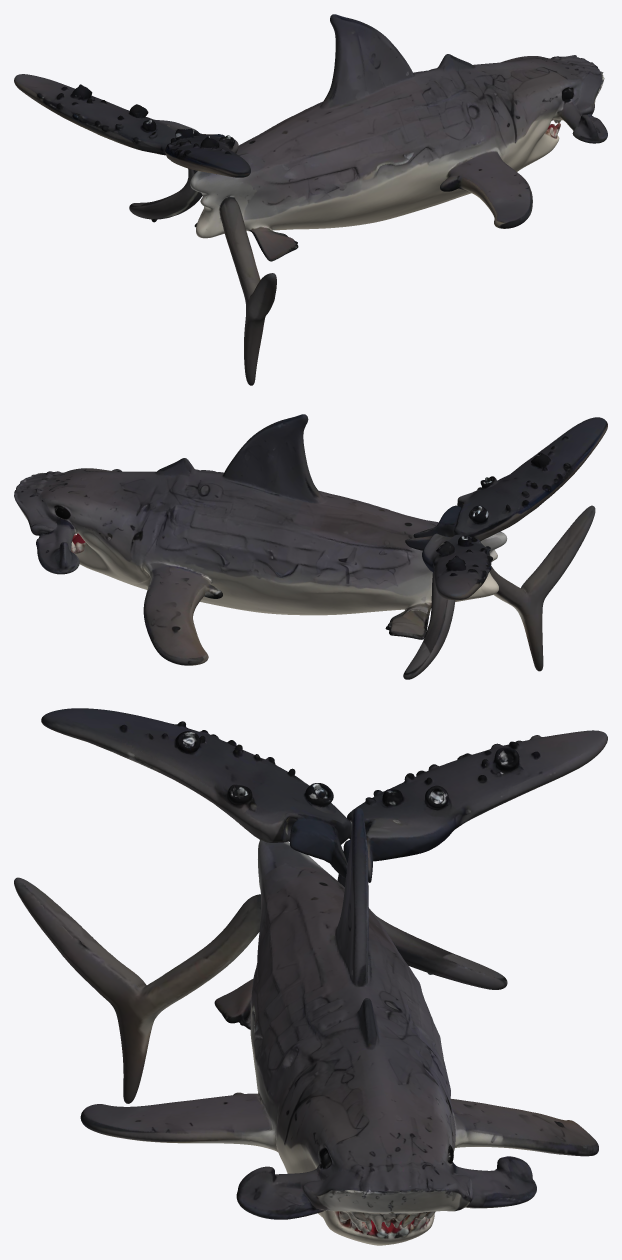
File: hammer_a.glb
3 views of the same model, one above another, from view 1: azimuth 30°, elevation 25°; view 2: azimuth 150°, elevation 25°; view 3: azimuth 270°, elevation 25° (orthographic). The views are drawn at different scales.
Parts seen in each view (by area): view 1: tripo_node_91c6eea2-9107-4697-b066-db56a7a76f0b; view 2: tripo_node_91c6eea2-9107-4697-b066-db56a7a76f0b; view 3: tripo_node_91c6eea2-9107-4697-b066-db56a7a76f0b.
Part boxes in pixels (x1,y1,x2,y2): tripo_node_91c6eea2-9107-4697-b066-db56a7a76f0b: [14, 14, 607, 385]; tripo_node_91c6eea2-9107-4697-b066-db56a7a76f0b: [14, 414, 607, 679]; tripo_node_91c6eea2-9107-4697-b066-db56a7a76f0b: [14, 708, 607, 1245].
Bounding box in the file's own units: 1 × 0.5135 × 0.6711.
Materials: 1 (1 with a texture image).
